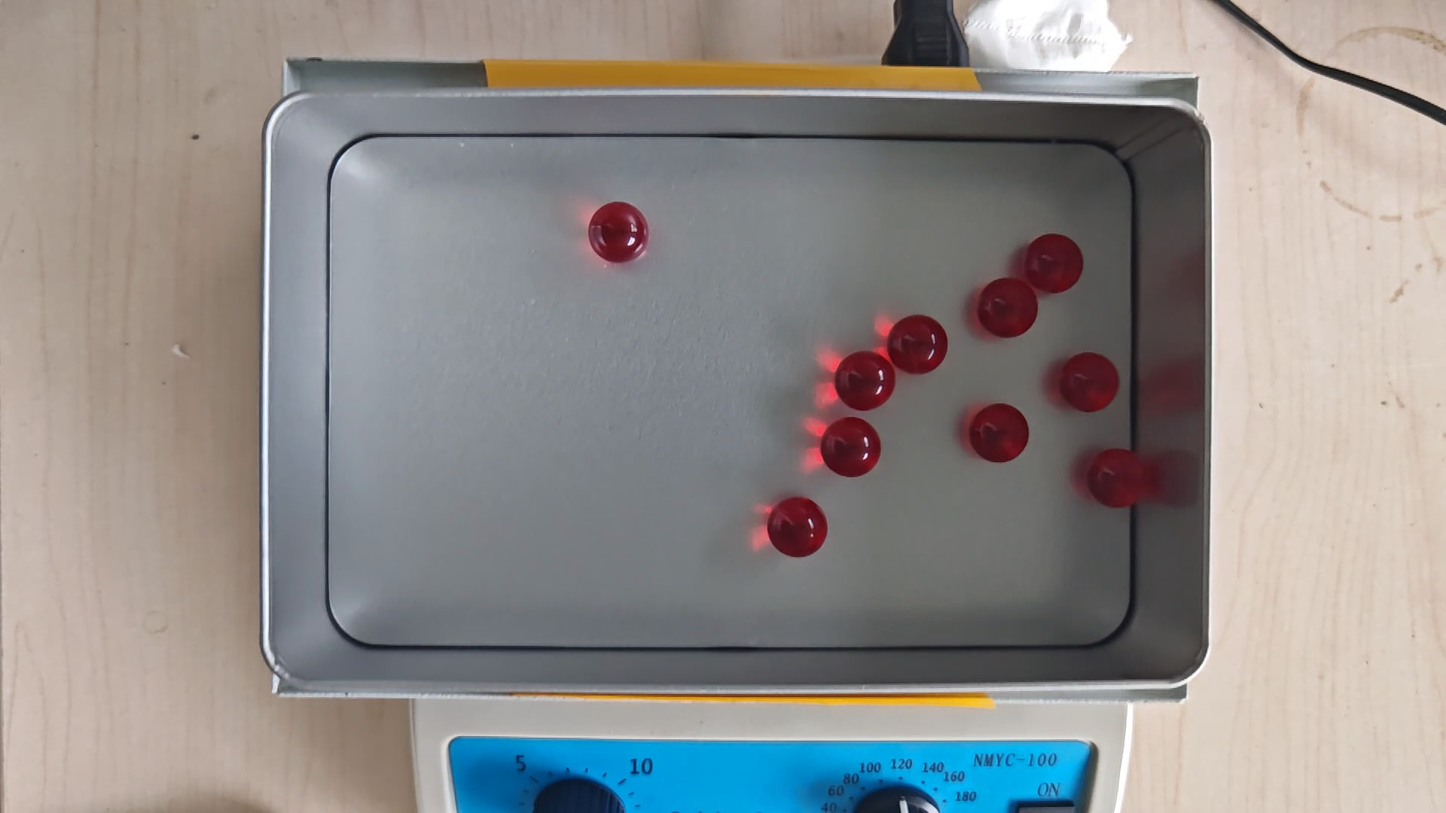ball: (588, 200, 650, 264), (1087, 447, 1148, 510), (1060, 351, 1120, 414), (768, 496, 828, 559), (978, 277, 1038, 340), (835, 350, 895, 412), (970, 403, 1030, 464), (822, 417, 882, 478), (889, 314, 948, 375), (1024, 234, 1084, 293)
container: (327, 136, 1133, 648)
